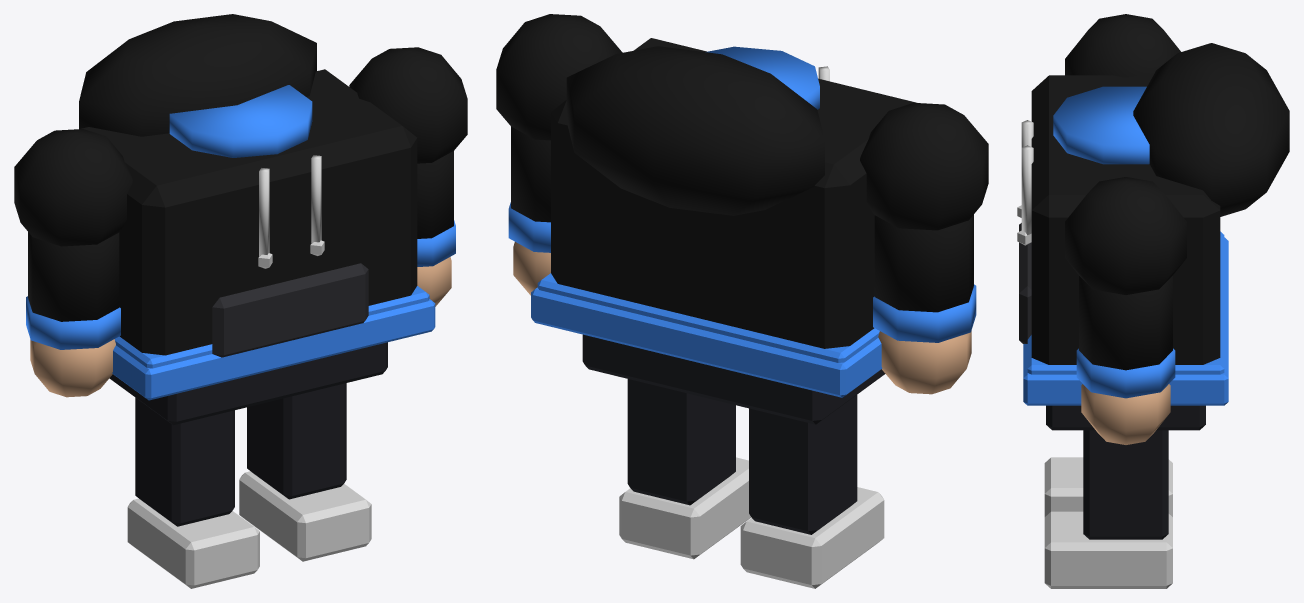
File: natis.glb
The picture shows the model from 3 angles, left to right: view 1: azimuth 30°, elevation 25°; view 2: azimuth 150°, elevation 25°; view 3: azimuth 270°, elevation 25°; orthographic projection. The views are drawn at different scales.
Visible parts, largest first — view 1: torso, hood, shoulder_L, thigh_L, pocket, thigh_R, belt, shoulder_R, shoe_L, shoe_R, hips, collar (+9 smaller); view 2: torso, hood, shoulder_L, belt, thigh_L, thigh_R, shoulder_R, hips, upperarm_L, shoe_L, shoe_R, fist_L (+6 smaller); view 3: torso, hood, shoulder_R, thigh_R, shoe_R, upperarm_R, collar, shoulder_L, belt, fist_R, cuff_R, shoe_L (+4 smaller).
Part boxes in pixels (left/top/right/bottom): torso: left=81, top=69, right=417, bottom=355; hood: left=79, top=14, right=316, bottom=136; shoulder_L: left=14, top=129, right=132, bottom=246; thigh_L: left=135, top=397, right=234, bottom=526; pocket: left=212, top=263, right=368, bottom=357; thigh_R: left=247, top=383, right=346, bottom=499; belt: left=112, top=299, right=435, bottom=400; shoulder_R: left=349, top=47, right=467, bottom=163; shoe_L: left=127, top=498, right=259, bottom=588; shoe_R: left=239, top=471, right=371, bottom=561; hips: left=109, top=342, right=387, bottom=425; collar: left=169, top=85, right=312, bottom=157; torso: left=551, top=38, right=916, bottom=348; hood: left=566, top=46, right=824, bottom=215; shoulder_L: left=860, top=102, right=988, bottom=230; belt: left=531, top=287, right=882, bottom=397; thigh_L: left=749, top=395, right=857, bottom=534; thigh_R: left=627, top=379, right=735, bottom=505; shoulder_R: left=496, top=14, right=622, bottom=140; hips: left=582, top=334, right=885, bottom=424; upperarm_L: left=874, top=214, right=973, bottom=312; shoe_L: left=740, top=487, right=884, bottom=588; shoe_R: left=619, top=457, right=751, bottom=559; fist_L: left=878, top=331, right=971, bottom=394; torso: left=1031, top=75, right=1220, bottom=364; hood: left=1133, top=43, right=1289, bottom=216; shoulder_R: left=1065, top=177, right=1186, bottom=294; thigh_R: left=1083, top=430, right=1168, bottom=539; shoe_R: left=1044, top=511, right=1172, bottom=588; upperarm_R: left=1079, top=276, right=1172, bottom=370; collar: left=1053, top=86, right=1149, bottom=164; shoulder_L: left=1065, top=14, right=1180, bottom=77; belt: left=1023, top=237, right=1228, bottom=405; fist_R: left=1081, top=384, right=1170, bottom=444; cuff_R: left=1076, top=348, right=1175, bottom=398; shoe_L: left=1044, top=457, right=1172, bottom=516.
Bounding box in the file's own units: 1.19 × 1.24 × 0.6367.
